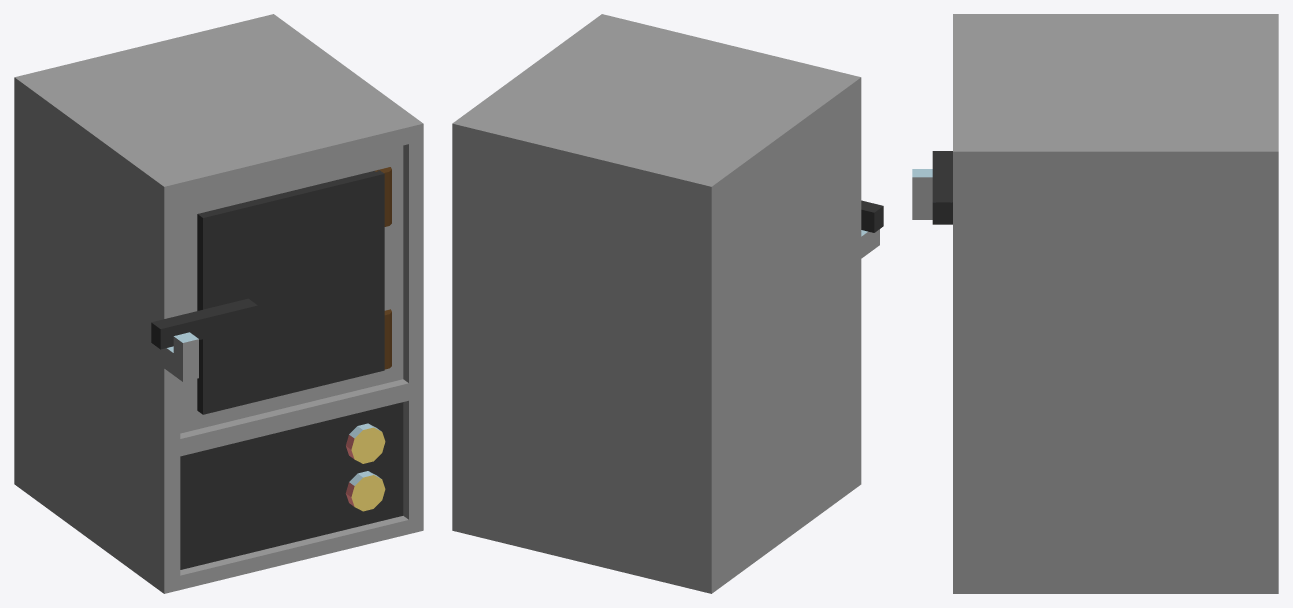
The model's file is MuffleFurnace.fbx.
3 views of the same model, side by side, from view 1: azimuth 30°, elevation 25°; view 2: azimuth 150°, elevation 25°; view 3: azimuth 270°, elevation 25° (orthographic). The views are drawn at different scales.
Parts seen in each view (by area): view 1: Body, Door, Button, Button_1; view 2: Body, Door; view 3: Body, Door.
Part boxes in pixels (x1,y1,x2,y2): Body: [14, 14, 423, 593]; Door: [151, 170, 384, 414]; Button: [346, 423, 385, 463]; Button_1: [345, 471, 385, 511]; Body: [452, 14, 879, 593]; Door: [861, 200, 883, 232]; Body: [912, 14, 1278, 593]; Door: [932, 151, 952, 224].
Bounding box in the file's own units: 52.5 × 75 × 56.25.
1 material, 1 textured.
